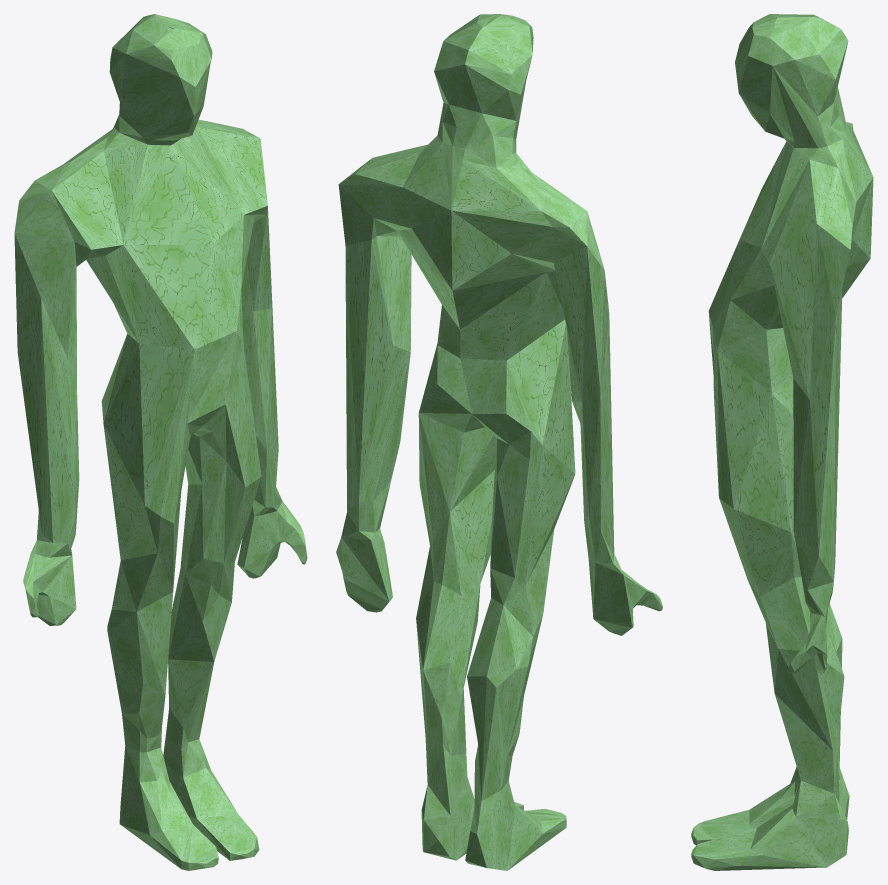
File: SlenderZombie.obj
3 renders of one model, left to right at view 1: azimuth 30°, elevation 25°; view 2: azimuth 150°, elevation 25°; view 3: azimuth 270°, elevation 25°, orthographic. The views are drawn at different scales.
Parts seen in each view (by area): view 1: Box004; view 2: Box004; view 3: Box004.
Part boxes in pixels (box(x1,y1,x2,y2)): Box004: box(14, 14, 307, 870); Box004: box(336, 14, 662, 870); Box004: box(691, 14, 873, 870).
Size of the model in its own units: 34.46 by 91.13 by 18.06.
